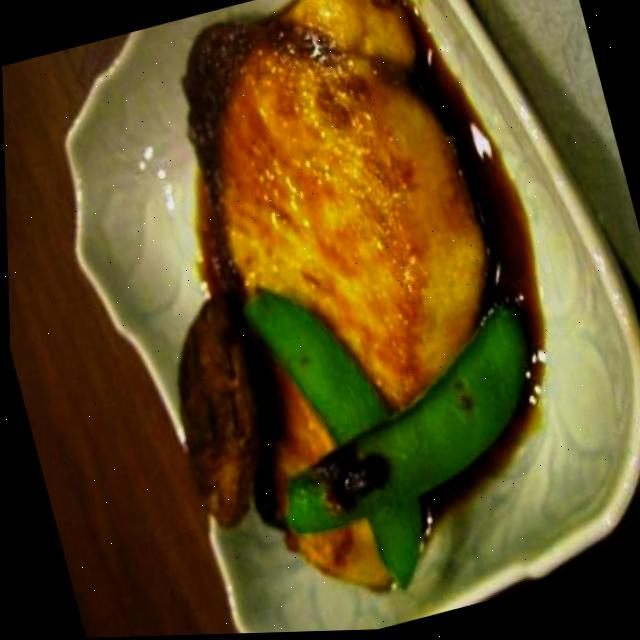熟制海鲜: (120, 0, 587, 637)
